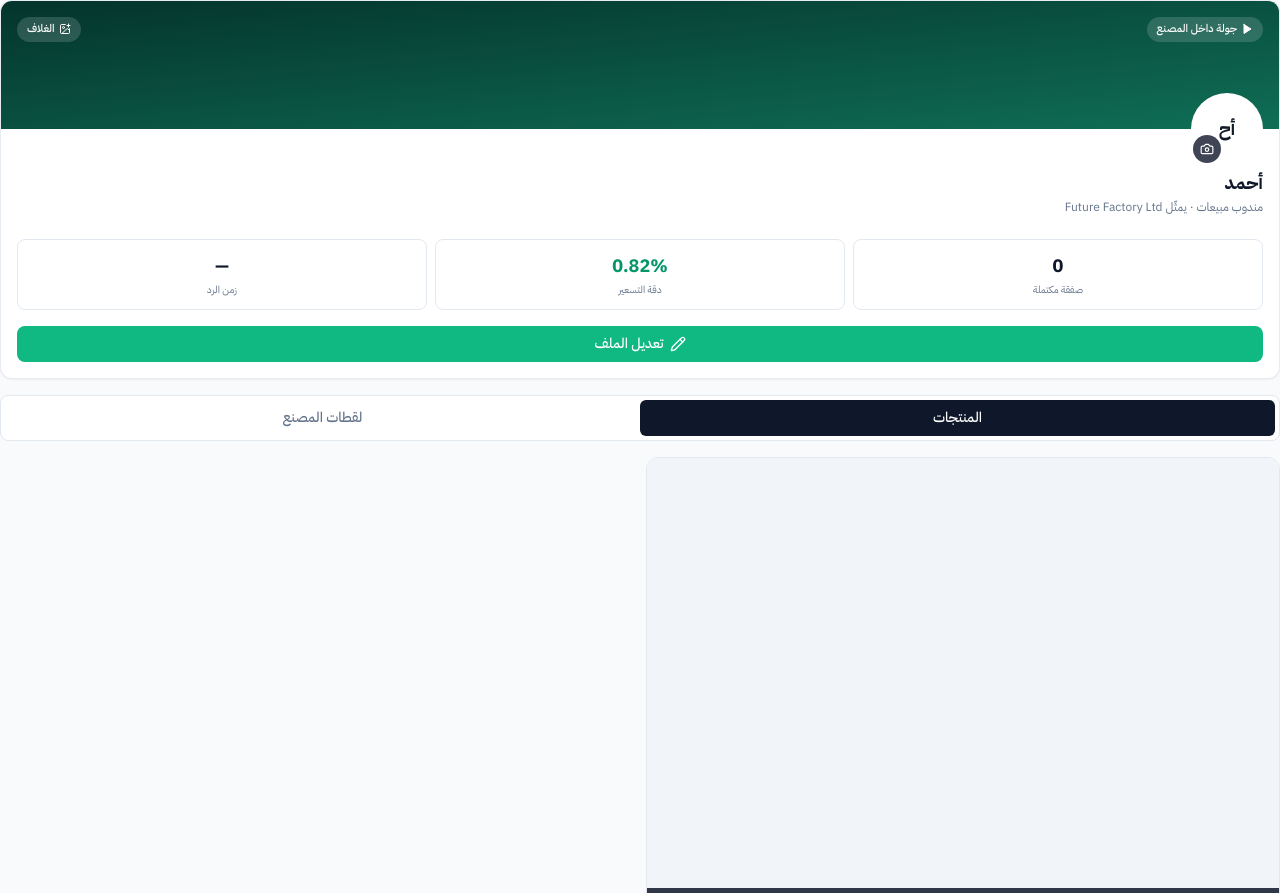
Test: SupplierProfileMobile › opens the edit form when 'تعديل الملف' is clicked
This screenshot has width=1280, height=893.
Expected: the heading "أحمد" is shown, x1=1224 y1=169 x2=1263 y2=196
What coordinates should you click on to do the following:
click the button "تعديل الملف"
I would click on:
 (640, 344)
Its box is x1=17 y1=326 x2=1263 y2=362.
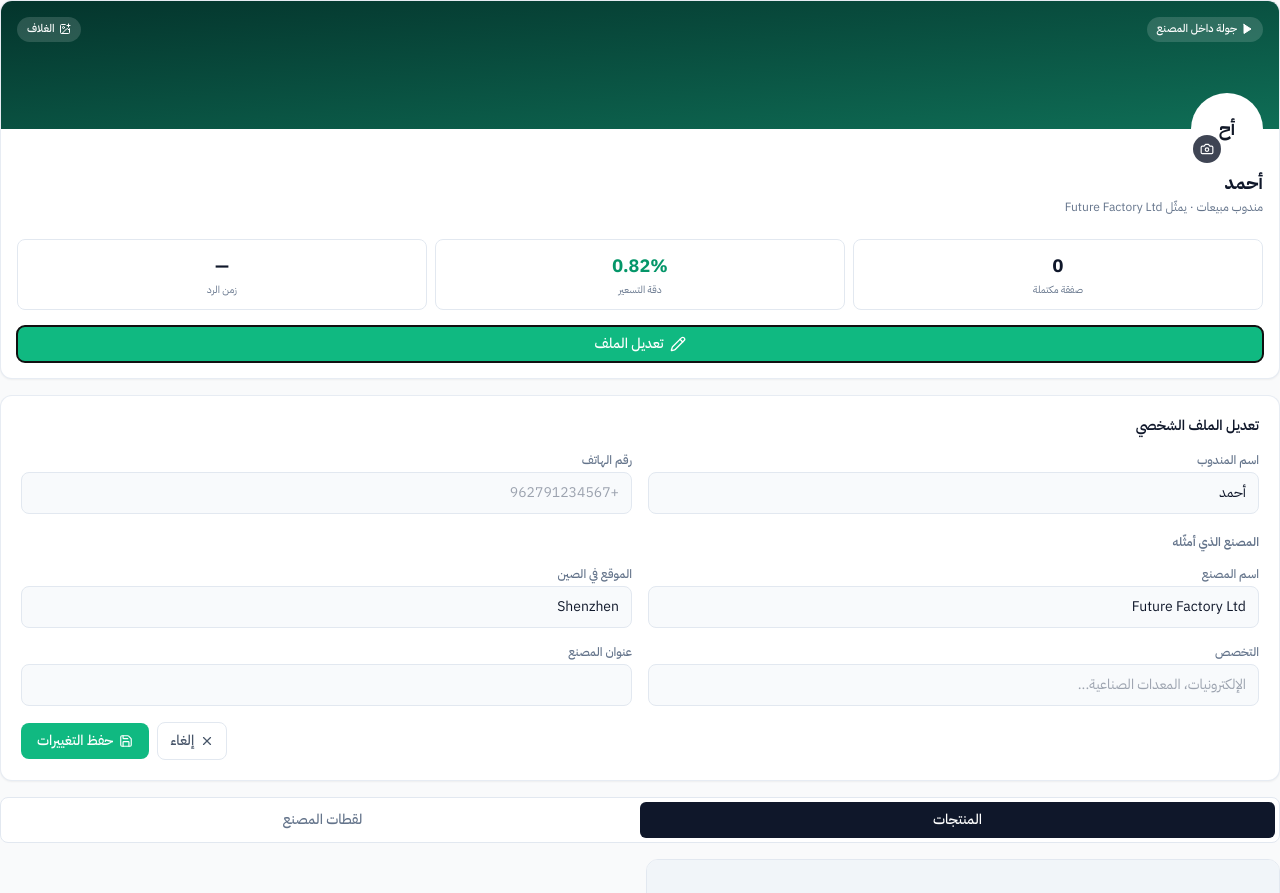
Expected: the heading "تعديل الملف الشخصي" is shown, x1=1136 y1=415 x2=1259 y2=436
